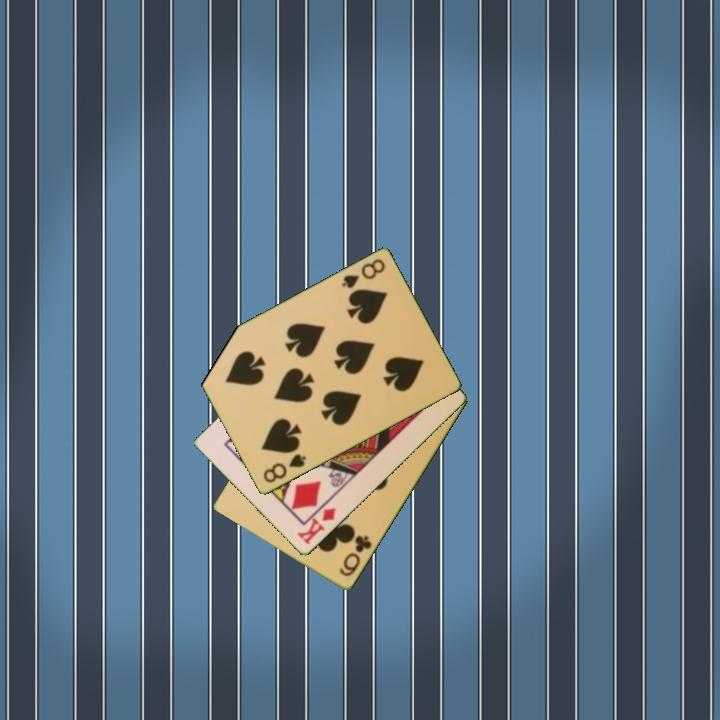6c: (336, 532, 375, 580)
8s: (338, 256, 388, 292), (259, 451, 309, 486)
Kd: (294, 497, 339, 548)
